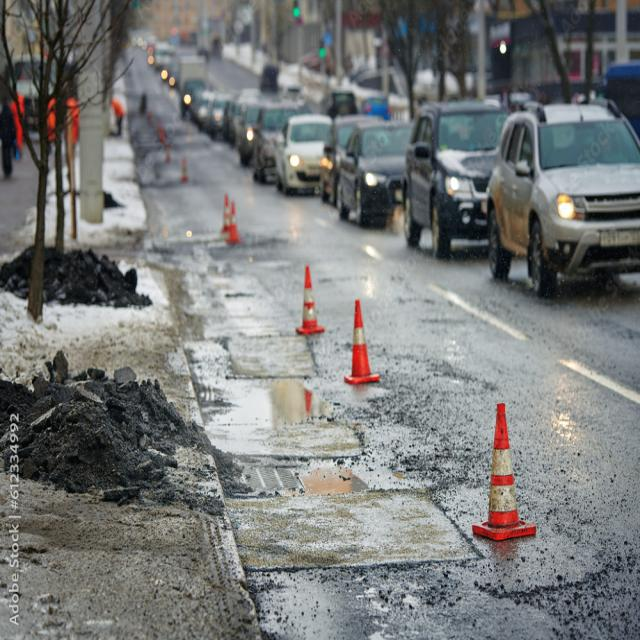Pothole: (2, 115, 558, 640)
